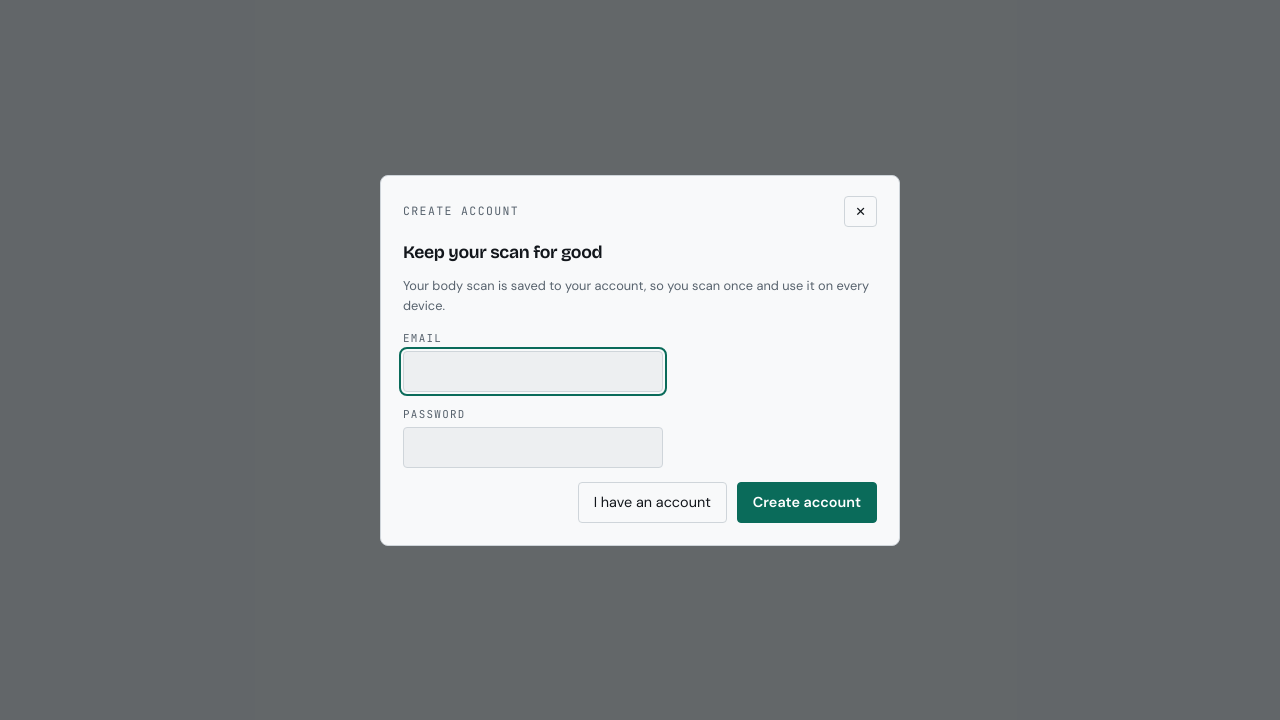
Test: AuthModal › shows the server error and stays open
Type "me@example.com" into the field labelled "Email". click: (533, 371)
box: x1=403 y1=351 x2=663 y2=392
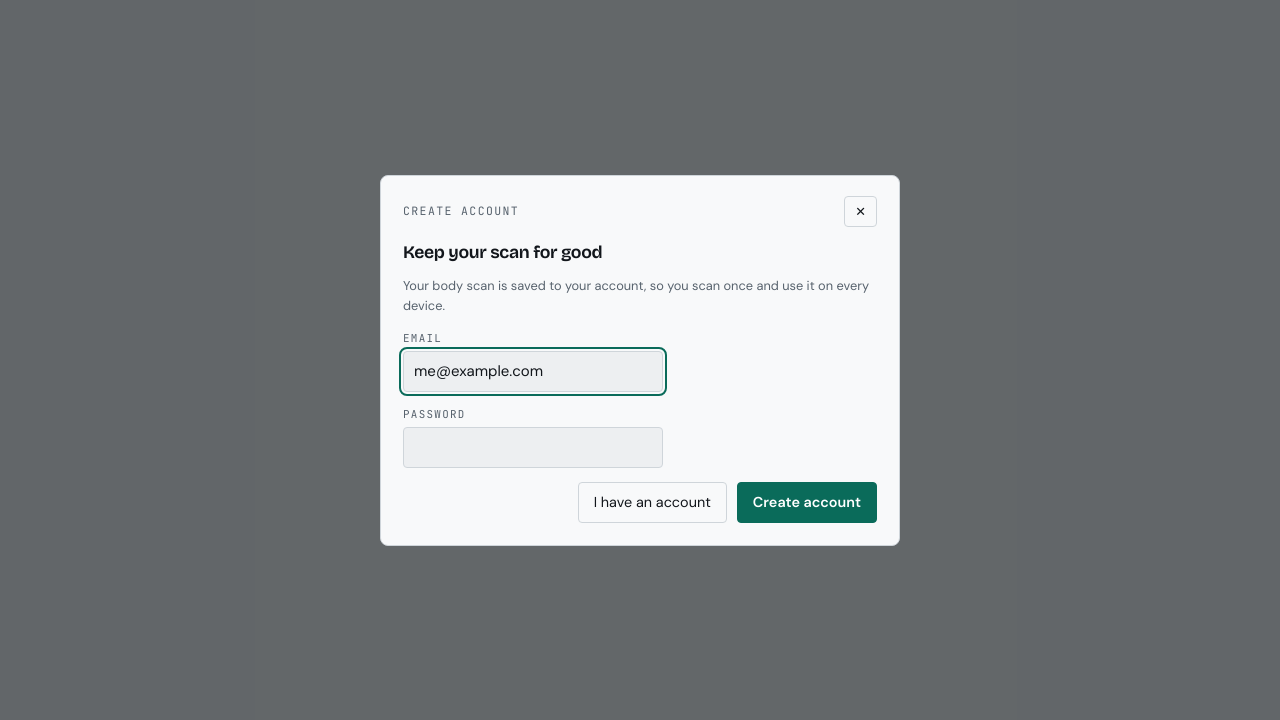
Type "password123" into the password field labelled "Password". click: (533, 448)
box: x1=403 y1=427 x2=663 y2=468
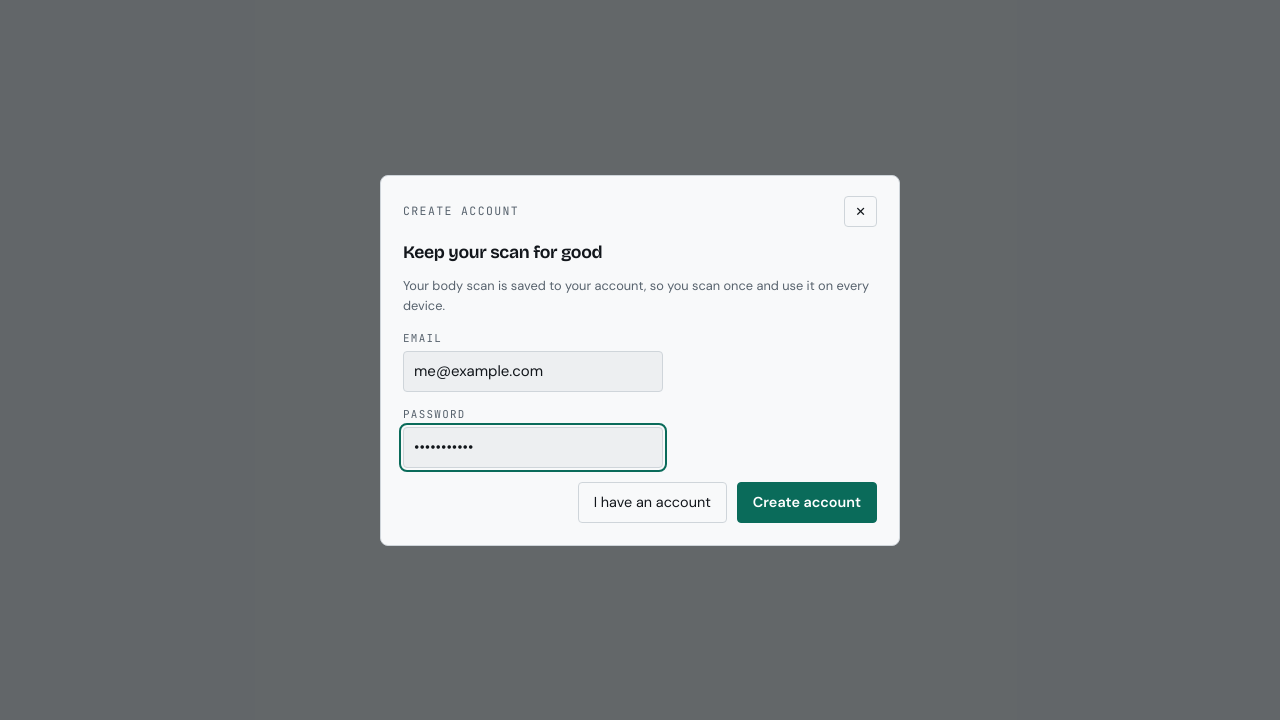
Click the button "Create account". click: (807, 502)
box: x1=737 y1=482 x2=877 y2=522
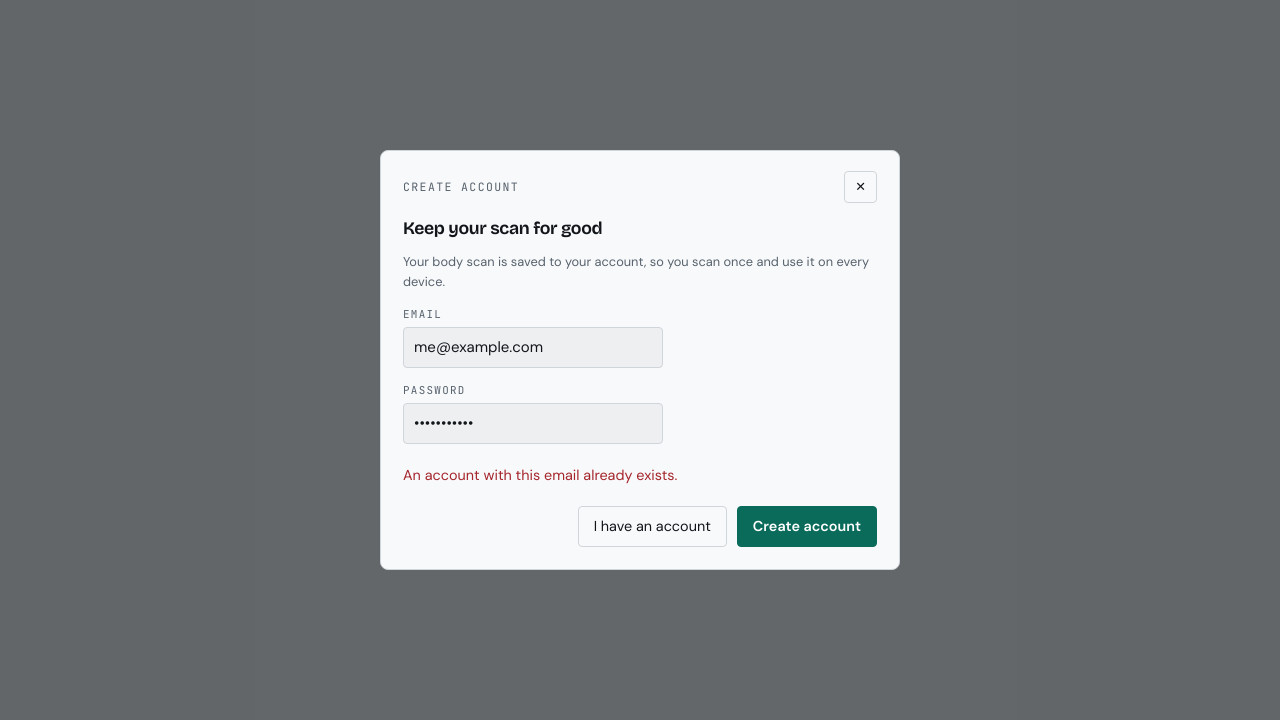
expect the message reads "An account with this email already exists.": met, box x1=403 y1=466 x2=677 y2=484
